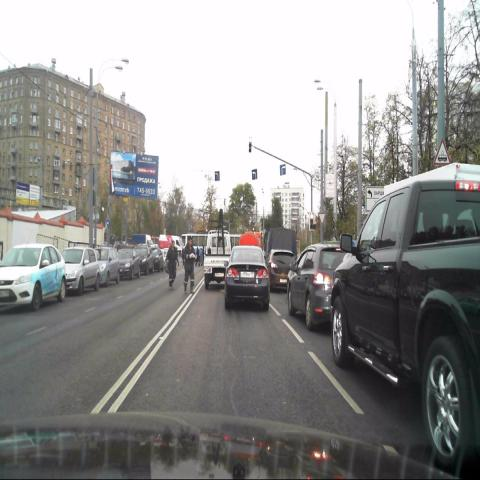1_5: (433, 137, 451, 164)
